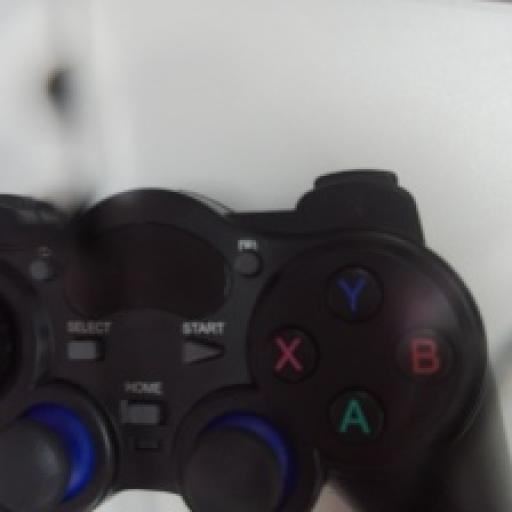game pad: (0, 171, 510, 510)
